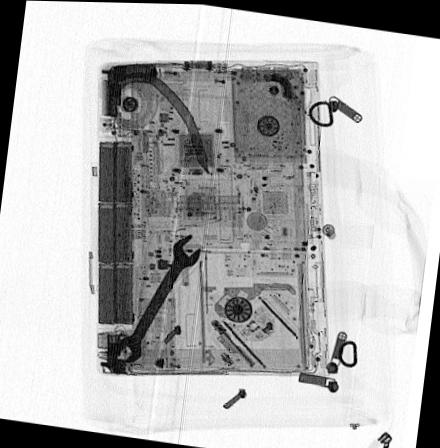Wrench: (108, 233, 200, 365)
